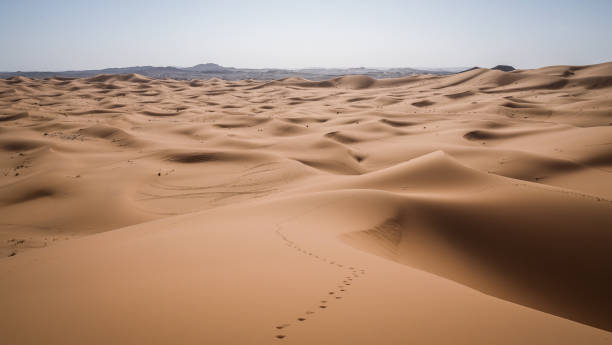animal_foot_print: (277, 226, 364, 300)
